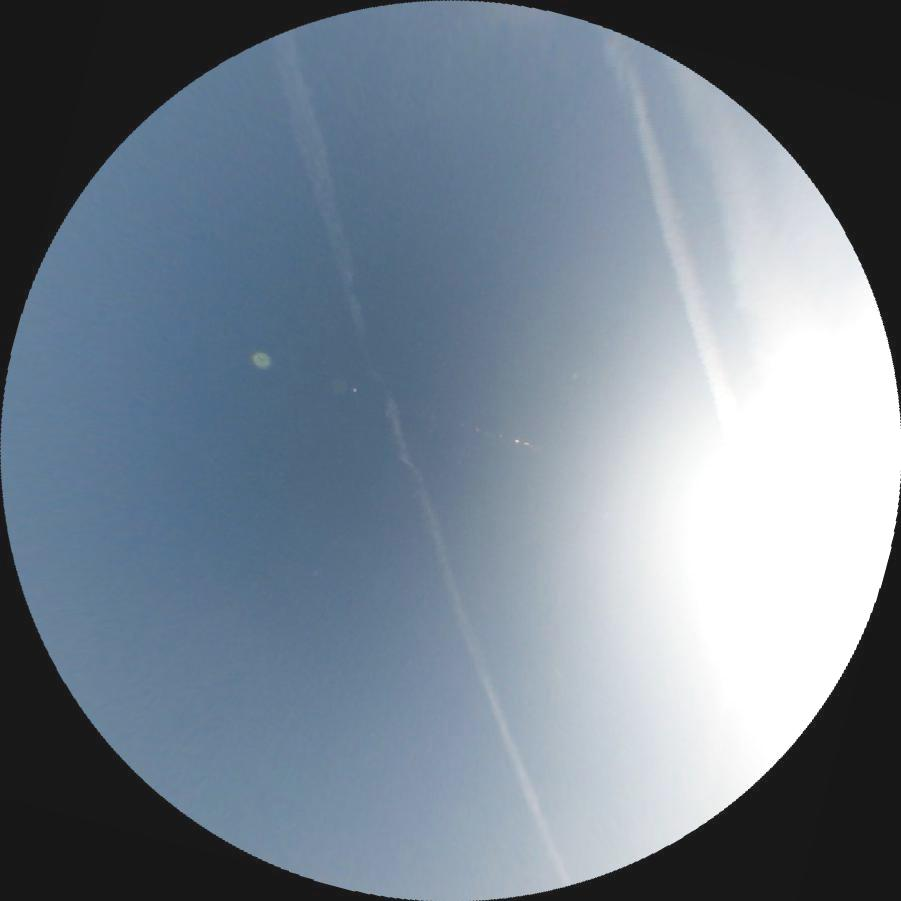contrail veryold: (240, 35, 563, 897), (582, 16, 768, 520), (645, 32, 800, 350)
